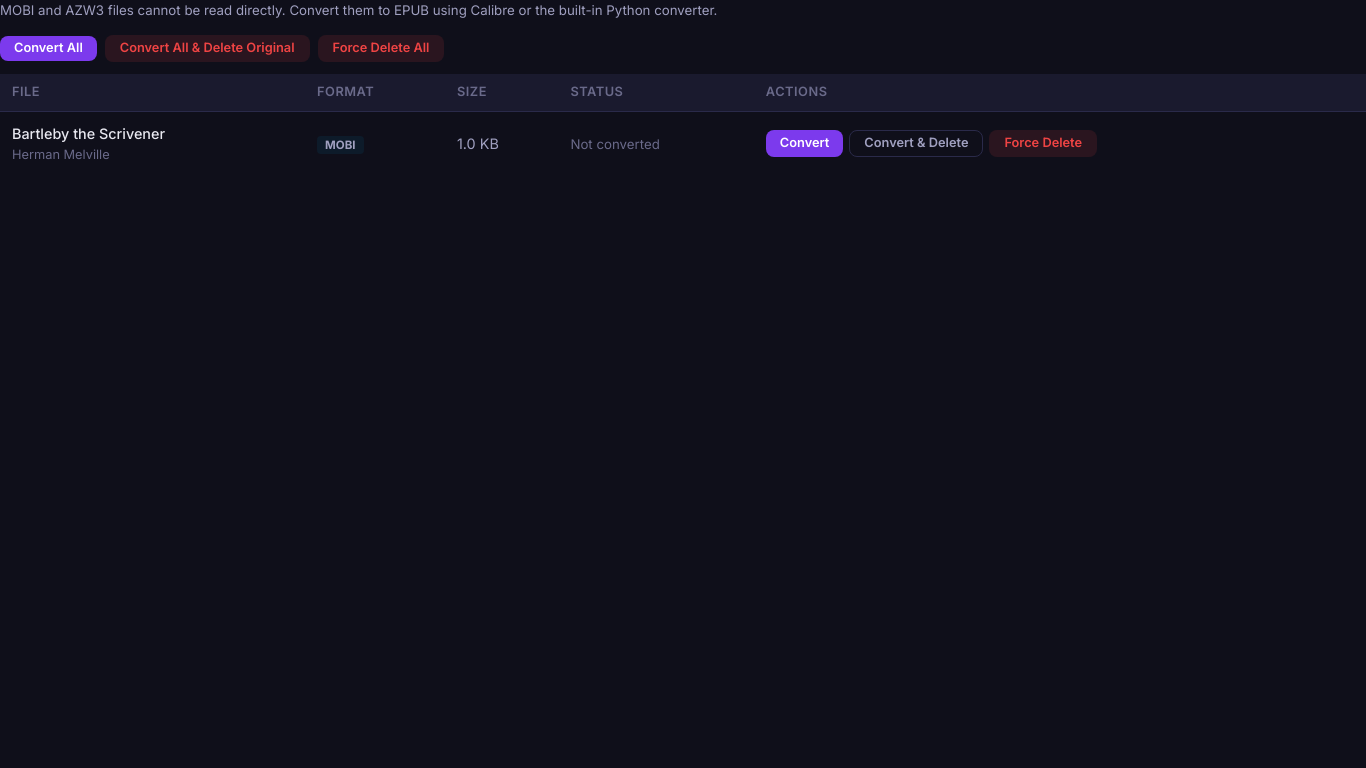
it: UnsupportedFilesPanel — the other actions › reports a failed force delete against the file
Expected: the text "Bartleby the Scrivener" is shown, [12,124,165,142]
Click the button "Force Delete" at (1043, 143), box [990,130,1097,157]
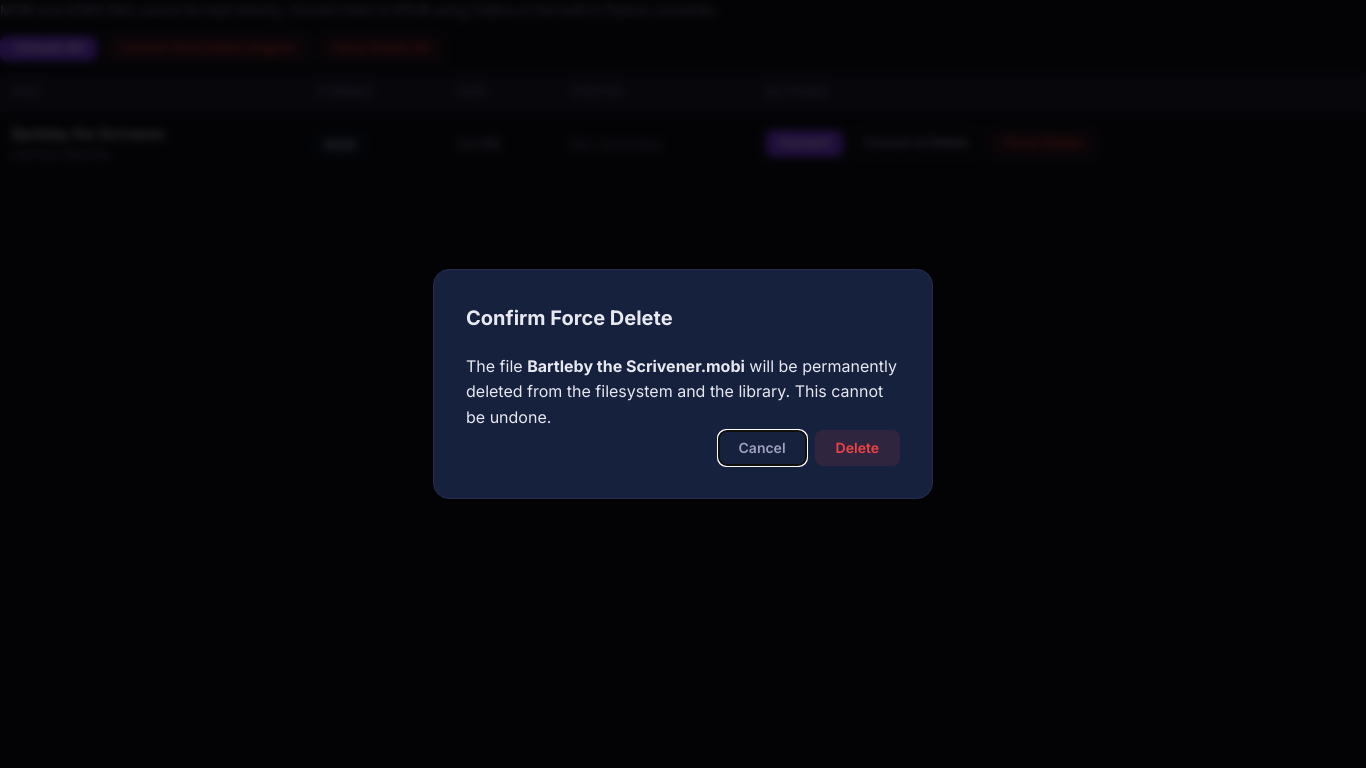
Click the button "Delete" at (857, 448), box [815,430,900,466]
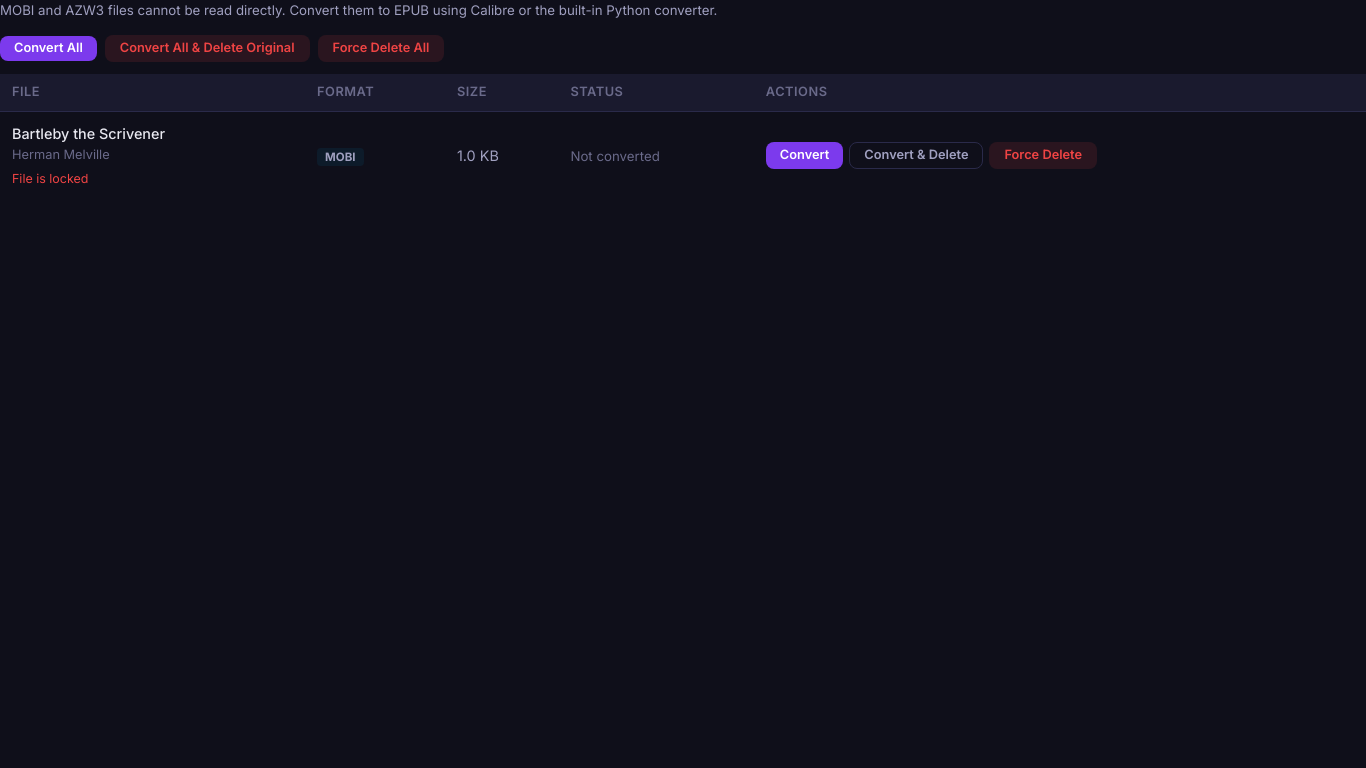
Expected: the text "File is locked" is shown, [12,171,88,186]
